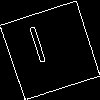I: (25, 25, 53, 73)
